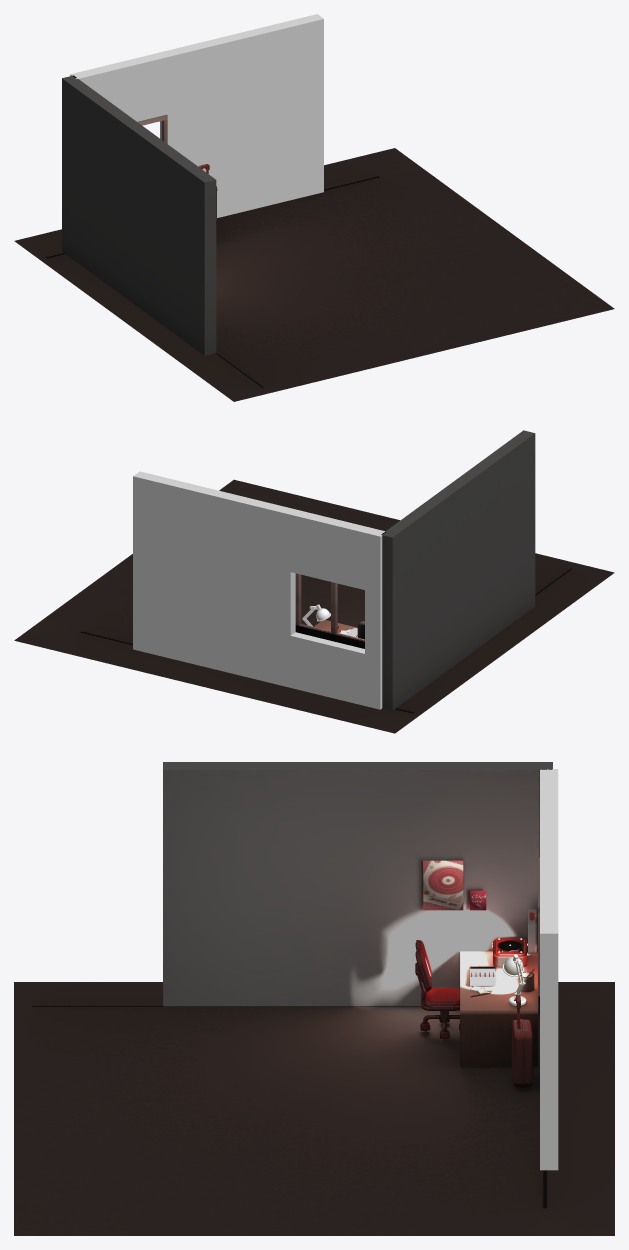
The picture shows the model from 3 angles, top to bottom: view 1: azimuth 30°, elevation 25°; view 2: azimuth 150°, elevation 25°; view 3: azimuth 270°, elevation 25°; orthographic projection. The views are drawn at different scales.
Parts seen in each view (by area): view 1: 평면.003, 큐브.005, 큐브.004; view 2: 큐브.005, 큐브.004, 평면.003, 큐브.001; view 3: 평면.003, 큐브.004, 큐브.005, Body57, Body136, Body128, Body142, body (1).
Part boxes in pixels (x1,y1,x2,y2): 평면.003: (14,148,614,401); 큐브.005: (70,14,323,217); 큐브.004: (62,75,216,355); 큐브.005: (133,471,384,709); 큐브.004: (381,430,535,710); 평면.003: (14,479,614,733); 큐브.001: (295,573,364,648); 평면.003: (14,982,614,1235); 큐브.004: (163,762,552,1006); 큐브.005: (540,769,558,1170); Body57: (460,951,538,1066); Body136: (423,860,463,910); Body128: (415,940,459,1039); Body142: (511,995,532,1087); body (1): (493,938,526,967).
Size of the model in its own units: 8.16 by 3.63 by 8.16.
Materials: 25 (16 with a texture image).
